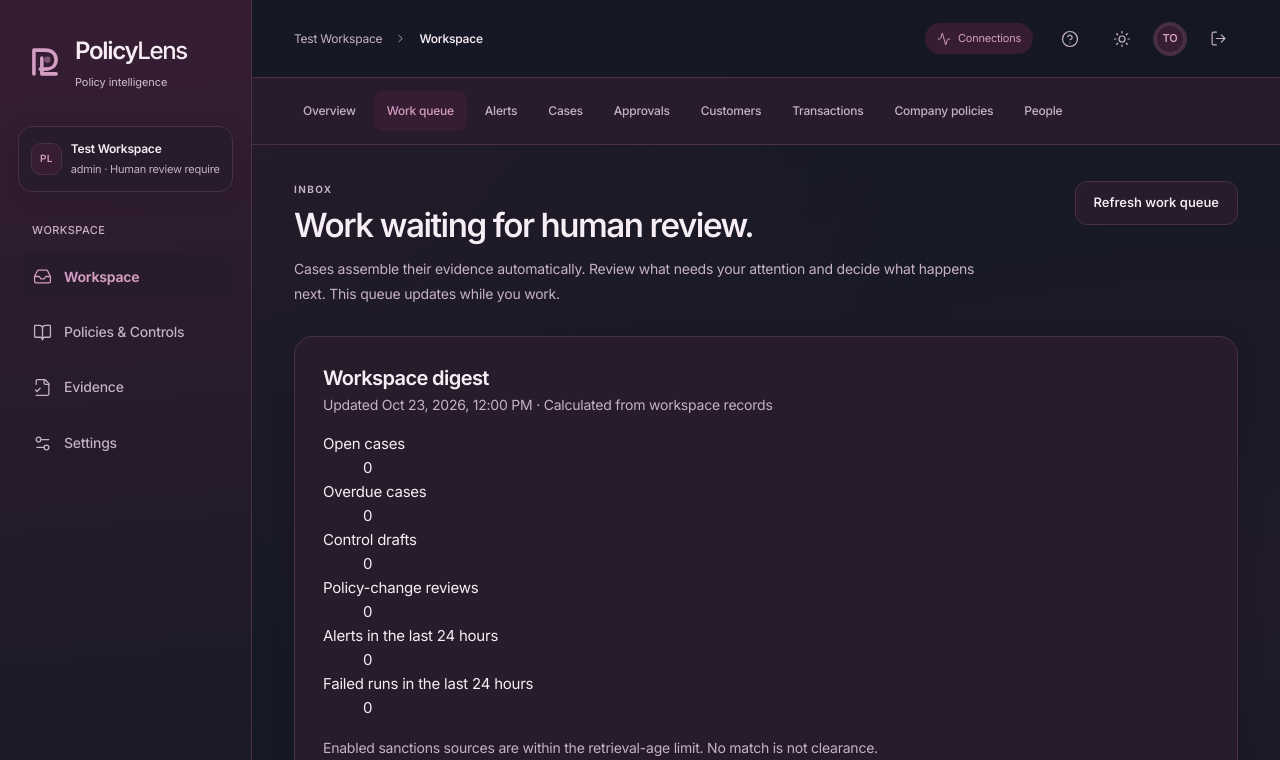
Test: four primary areas remain active through populated review and evidence routes
Click the link "Policies & Controls" at (109, 332), box left=33, top=323, right=184, bottom=342
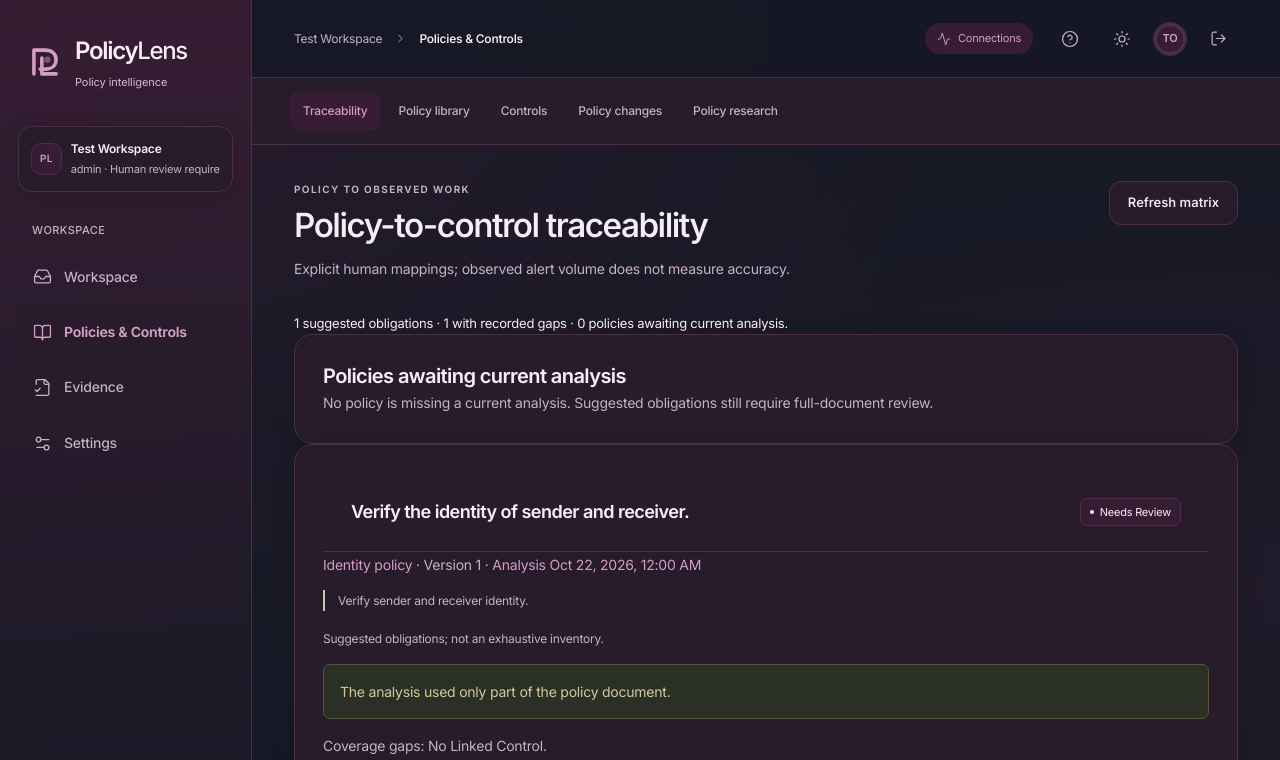
Now the heading "Verify the identity of sender and receiver." is shown, box left=351, top=500, right=689, bottom=524
Click the link "Evidence" at (78, 388), box left=33, top=378, right=124, bottom=397
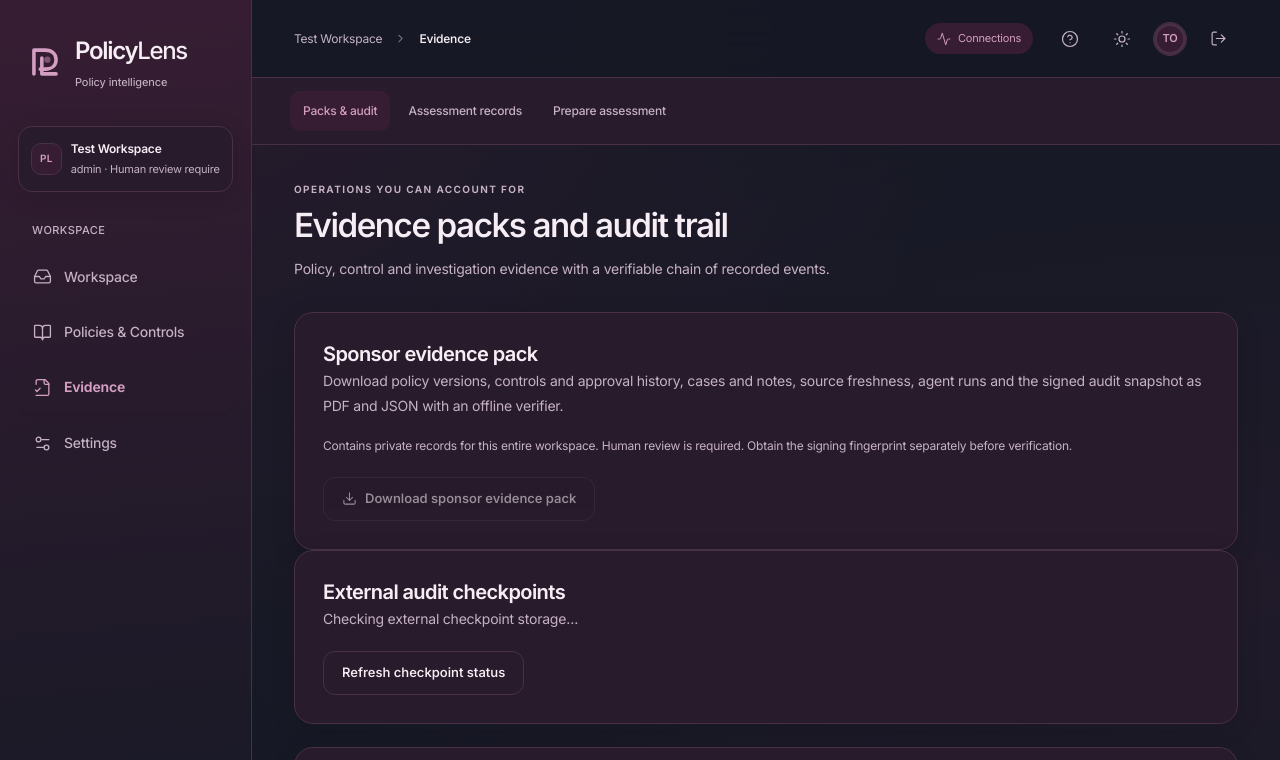
Now the heading "Sponsor evidence pack" is shown, box left=323, top=342, right=538, bottom=366
Click the link "Settings" at (75, 443), box left=33, top=434, right=117, bottom=452
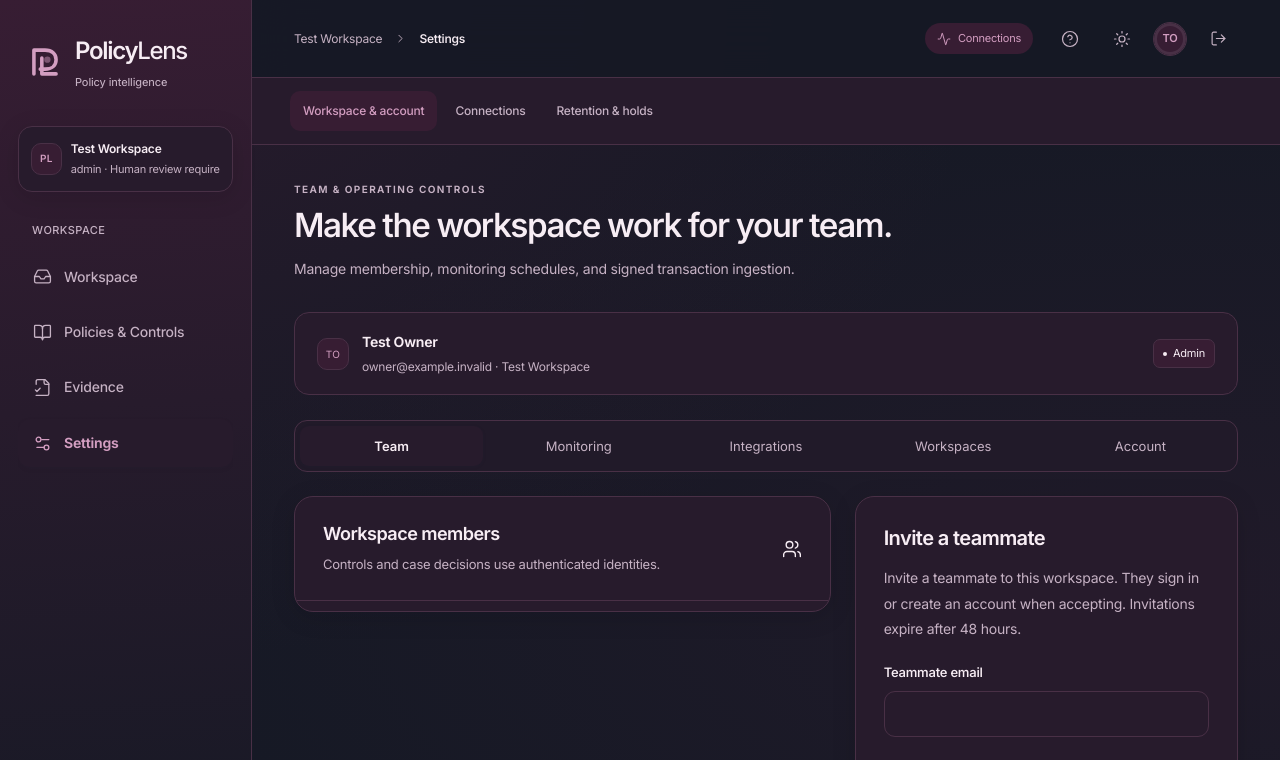
Now the heading "Workspace members" is shown, box left=323, top=523, right=500, bottom=544
Click the link "Connections" next to "Workspace & account" at (490, 111), box left=455, top=103, right=525, bottom=118
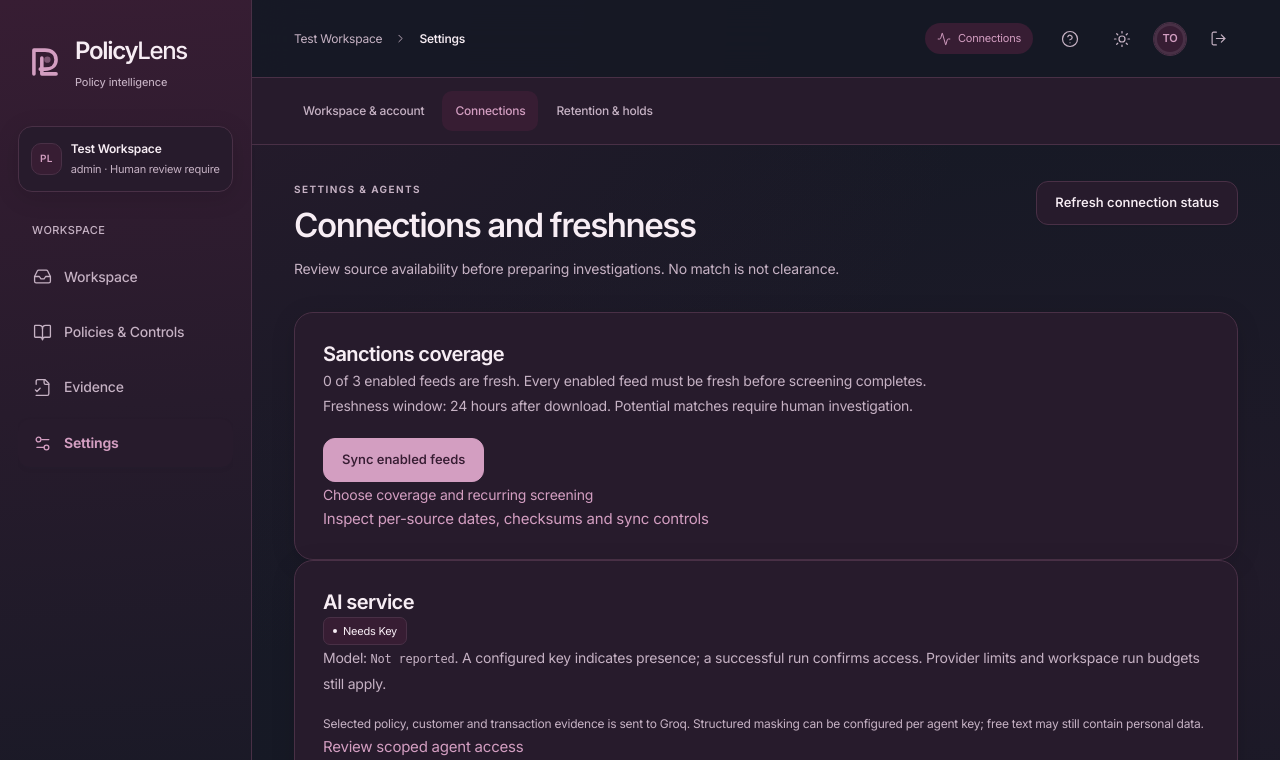
Now the heading "Connections and freshness" is shown, box left=294, top=205, right=696, bottom=245
